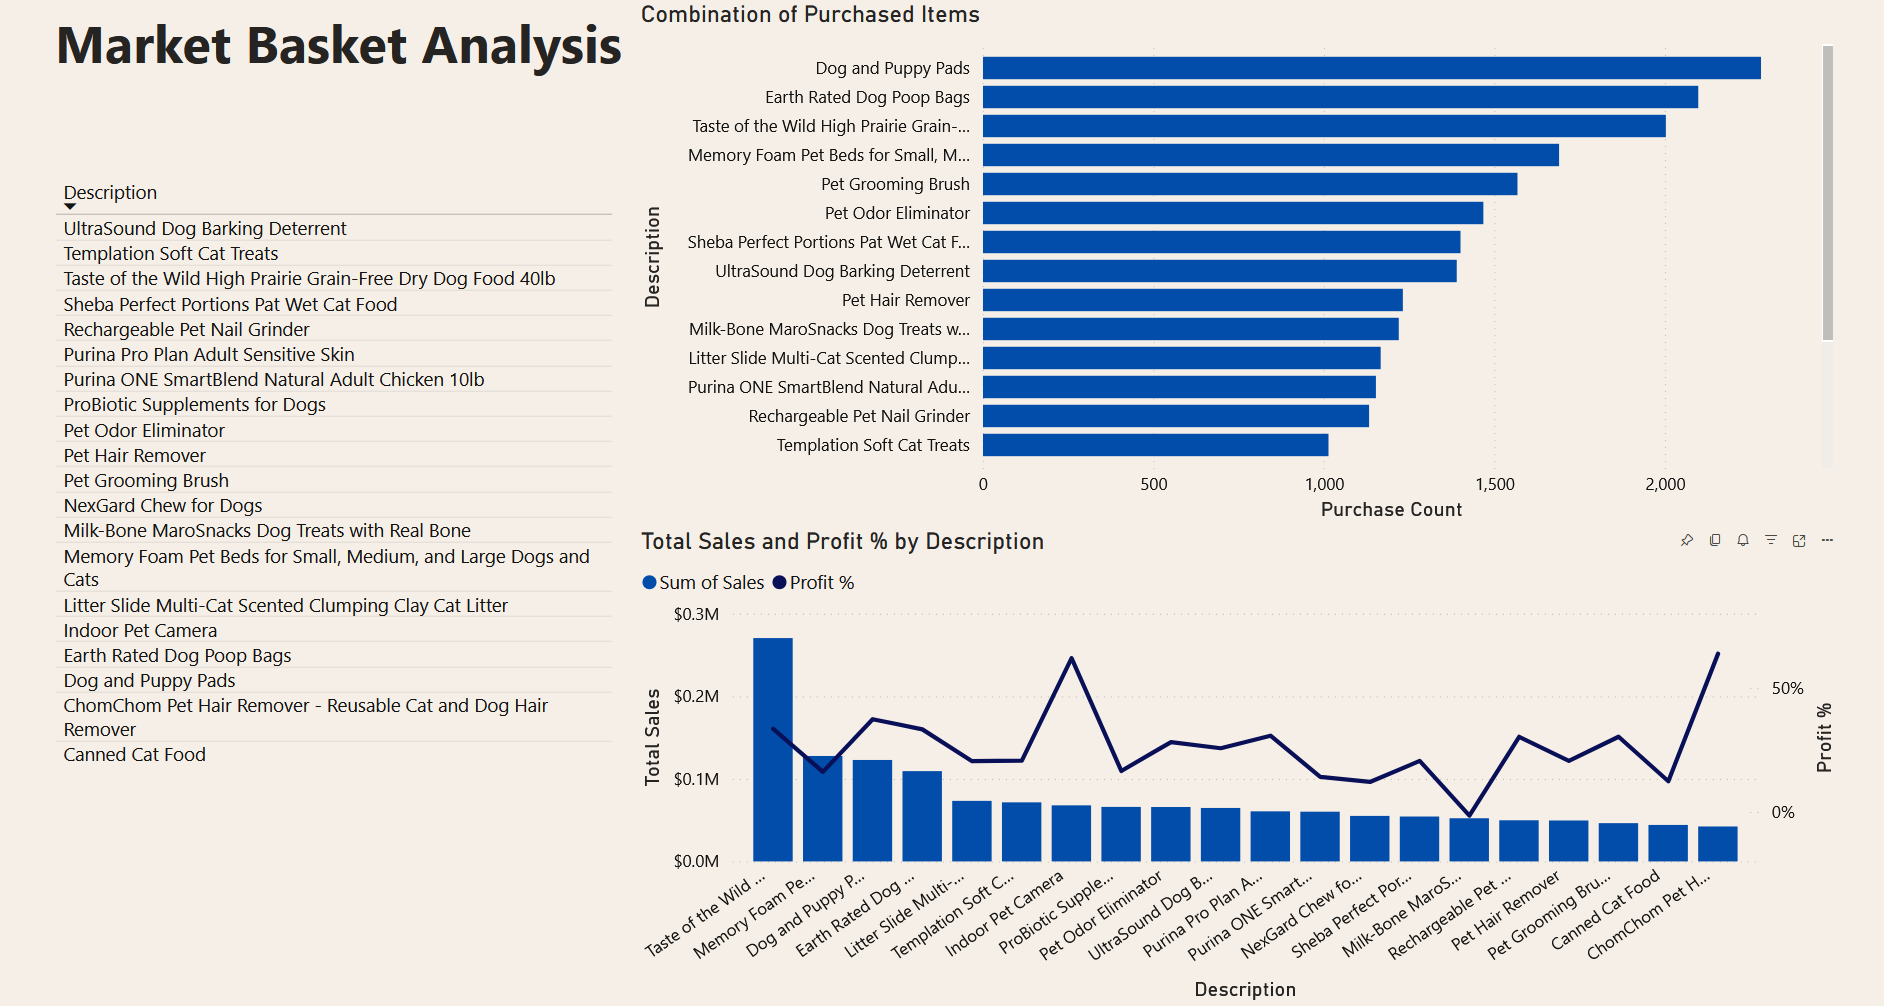

What the dashboard file says about the page in this screenshot:
{"tool":"powerbi","page":{"name":"Market Basket Analysis","canvas":[1280,720],"ordinal":2},"visuals":[{"type":"tableEx","fields":{"Values":["Sales.Description"]},"box":[0,122.6,418.2,597.2],"z":0},{"type":"clusteredBarChart","title":"Combination of Purchased Items","fields":{"Category":["Market Basket.Description"],"Y":["CountNonNull(Market Basket.Description)"]},"box":[418.2,0,861.8,376.4],"z":1000},{"type":"lineStackedColumnComboChart","title":"Total Sales and Profit % by Description","fields":{"Category":["Products.Description"],"Y":["Sum(Sales.Sales)"],"Y2":["New_Measures.Profit %"]},"box":[418.2,376.4,861.8,343.3],"z":2000},{"type":"textbox","box":[0,0,418.2,122.6],"z":3000}]}

Visuals, with their boxes on the page's 1280x720 design canvas (x1, y1, x2, y2). These are canvas units, not pixel positions in the 1884x1006 screenshot, which may show the page scaled, cropped or inside an application window:
tableEx - Sales.Description: BBox(0, 123, 418, 720)
"Combination of Purchased Items" clusteredBarChart: BBox(418, 0, 1280, 376)
"Total Sales and Profit % by Description" lineStackedColumnComboChart: BBox(418, 376, 1280, 720)
textbox: BBox(0, 0, 418, 123)
